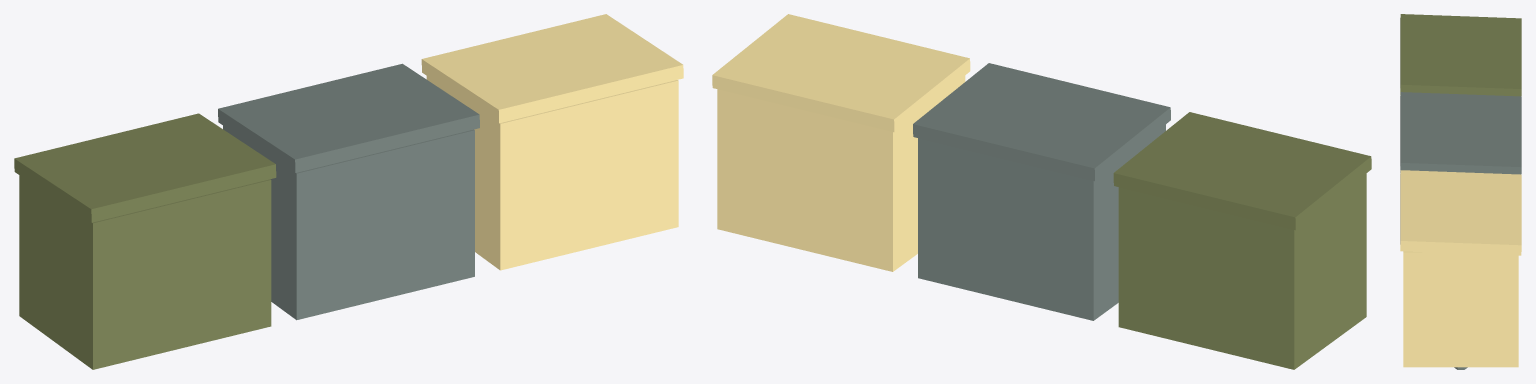
Rendered from SM_Contenedor_v4_Fila_LOD0.fbx.
3 views of the same model, side by side, from view 1: azimuth 30°, elevation 25°; view 2: azimuth 150°, elevation 25°; view 3: azimuth 270°, elevation 25° (orthographic). The views are drawn at different scales.
Visible parts, largest first — view 1: SM_urbano_extra_v4_LOD0; view 2: SM_urbano_extra_v4_LOD0; view 3: SM_urbano_extra_v4_LOD0.
Boxes of the visible parts, x1=… form: SM_urbano_extra_v4_LOD0: x1=14, y1=14, x2=683, y2=369; SM_urbano_extra_v4_LOD0: x1=712, y1=14, x2=1371, y2=369; SM_urbano_extra_v4_LOD0: x1=1400, y1=14, x2=1521, y2=369.
Size of the model in its own units: 4.65 by 1.29 by 1.05.
